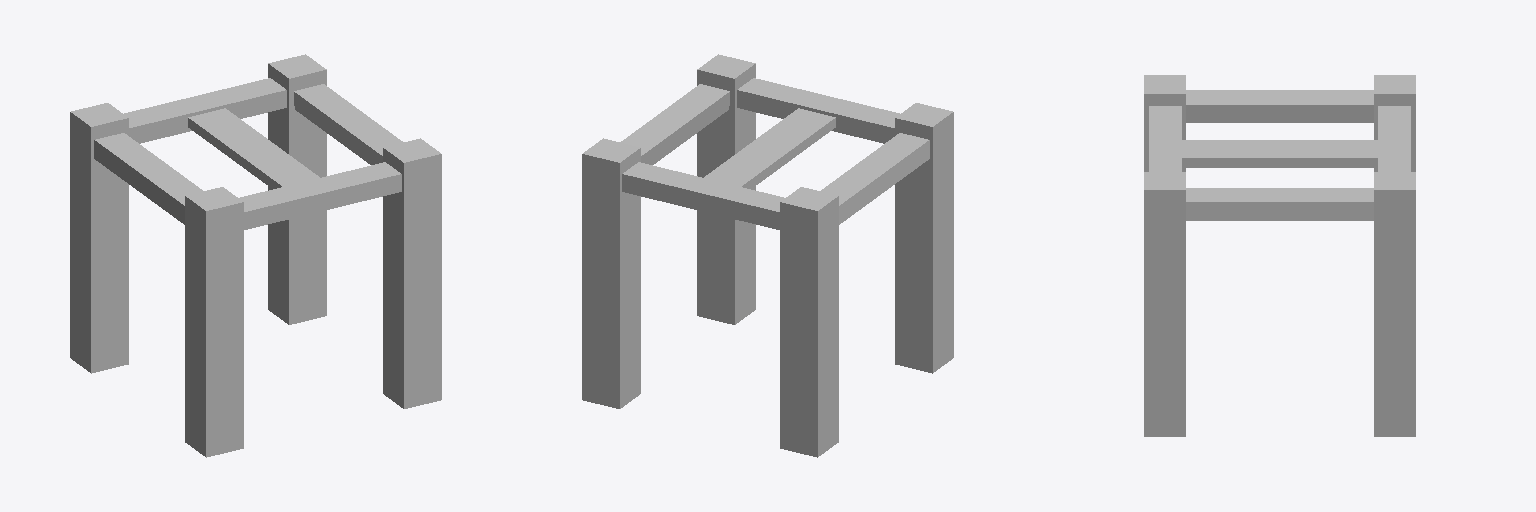
Rendered from TruckCrane.obj.
3 views of the same model, side by side, from view 1: azimuth 30°, elevation 25°; view 2: azimuth 150°, elevation 25°; view 3: azimuth 270°, elevation 25° (orthographic).
Parts seen in each view (by area): view 1: TruckCrane_Cube.001; view 2: TruckCrane_Cube.001; view 3: TruckCrane_Cube.001.
Part boxes in pixels (x1,y1,x2,y2): TruckCrane_Cube.001: (70,54,441,457); TruckCrane_Cube.001: (582,54,953,457); TruckCrane_Cube.001: (1144,75,1415,436).
Size of the model in its own units: 15 by 15 by 15.